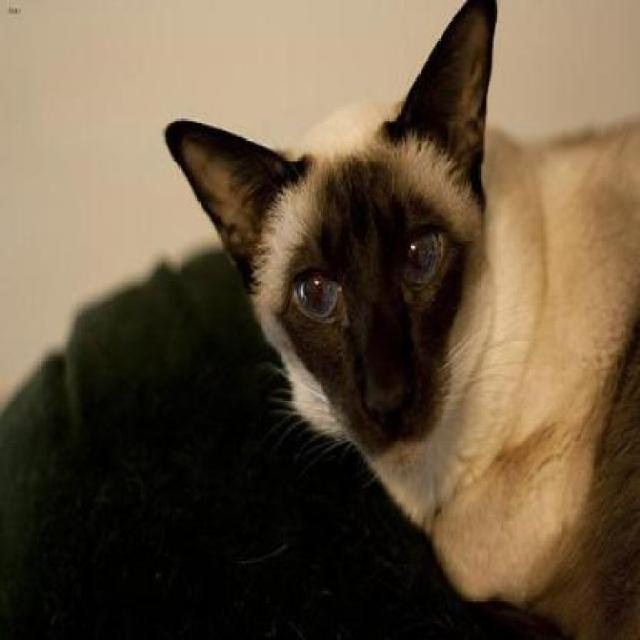cat: (163, 0, 639, 638)
